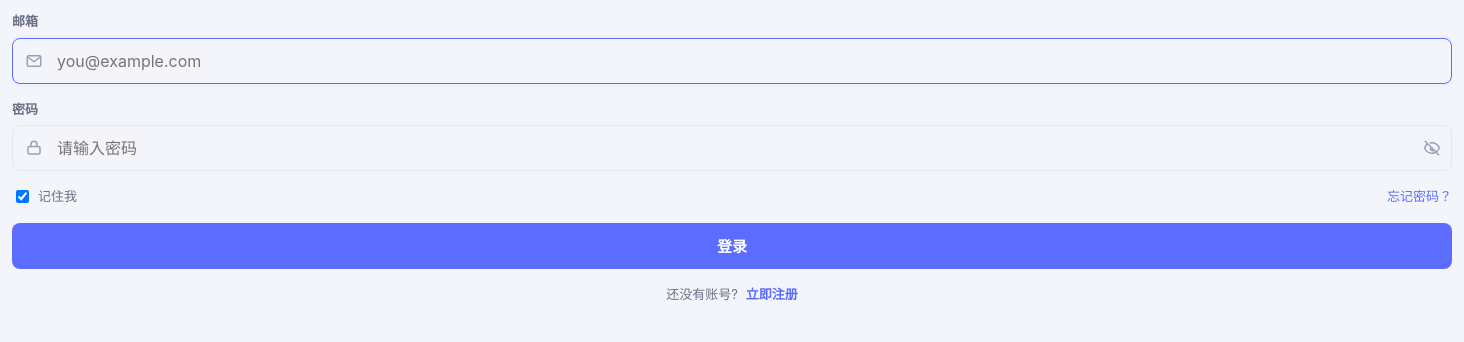
Scenario: LoginForm.vue › flags an invalid email format
Type "not-an-email" into the field labelled "邮箱" at (753, 60), box [55,38,1451,82]
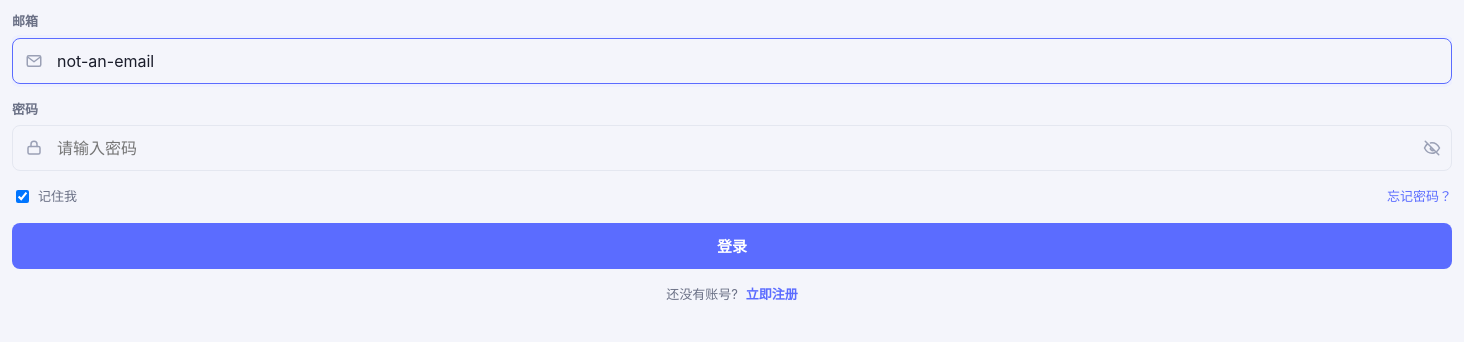
Type "password123" into the password field labelled "密码" at (734, 148), box [55,126,1413,170]
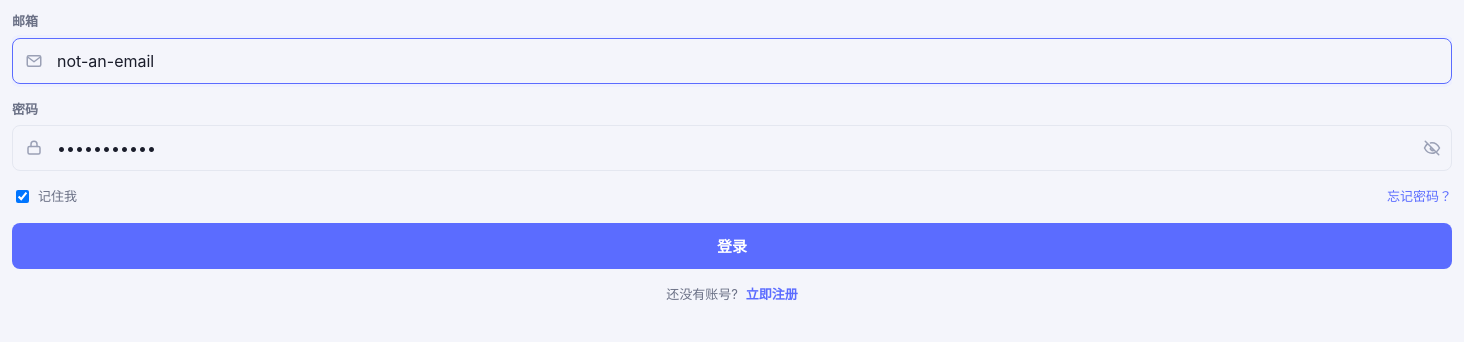
Submit the form
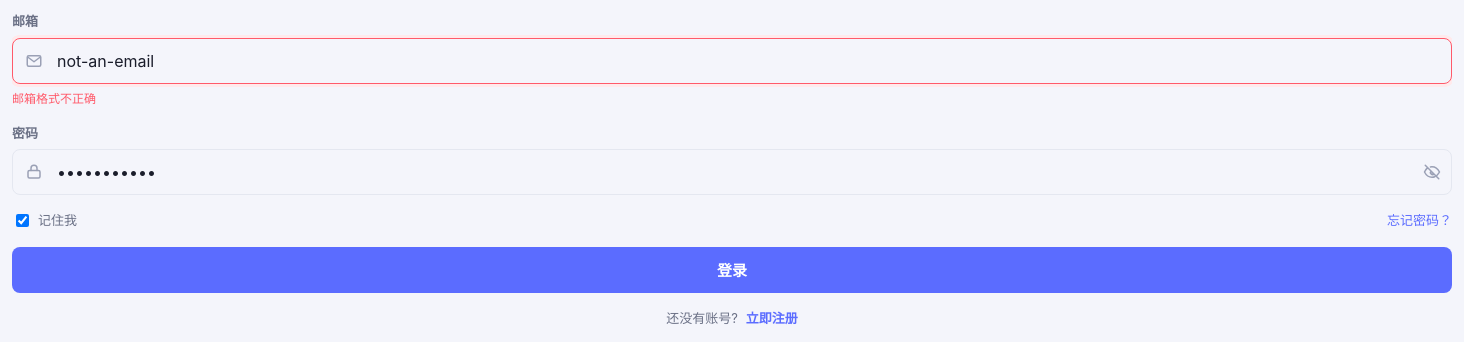
Check: the form shows "邮箱格式不正确", box [12,90,96,106]
